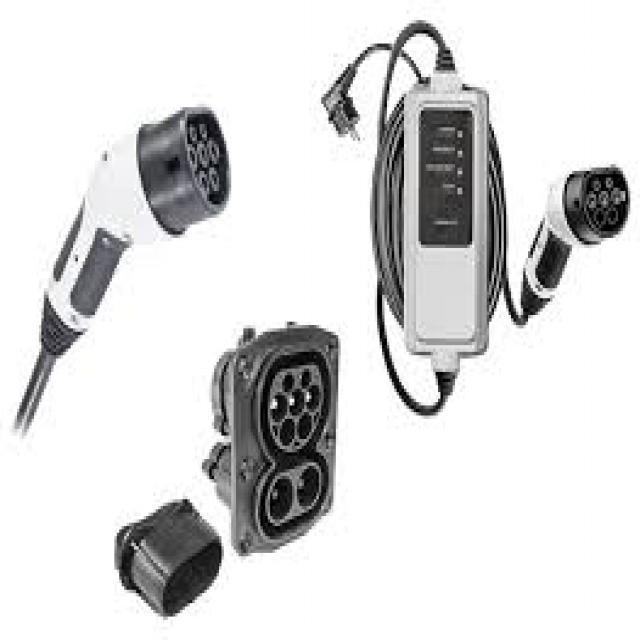Type 2: (142, 98, 238, 222), (235, 359, 334, 451), (563, 144, 640, 244)
